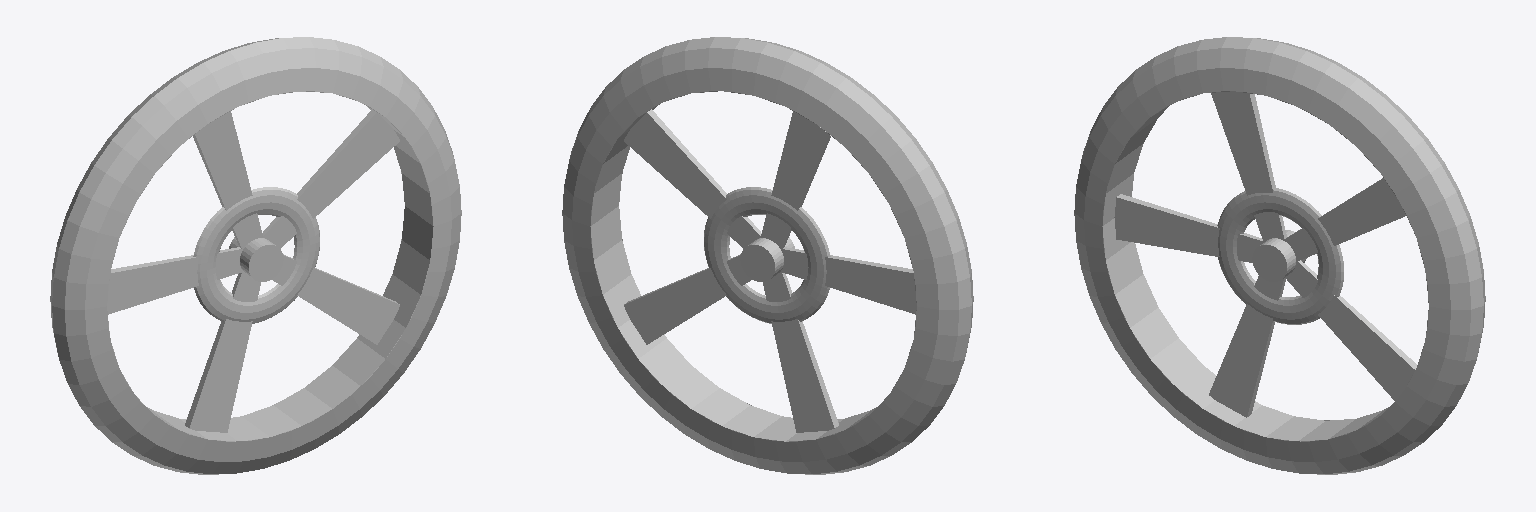
File: wheel.obj
3 views of the same model, side by side, from view 1: azimuth 30°, elevation 25°; view 2: azimuth 150°, elevation 25°; view 3: azimuth 330°, elevation 25° (orthographic).
Parts seen in each view (by area): view 1: Wheel_Torus.001; view 2: Wheel_Torus.001; view 3: Wheel_Torus.001.
Boxes of the visible parts, box(x1,y1,x2,y2) form: Wheel_Torus.001: box(50, 37, 461, 474); Wheel_Torus.001: box(562, 37, 973, 474); Wheel_Torus.001: box(1074, 37, 1485, 474).
Bounding box in the file's own units: 2.5 × 2.5 × 0.305.